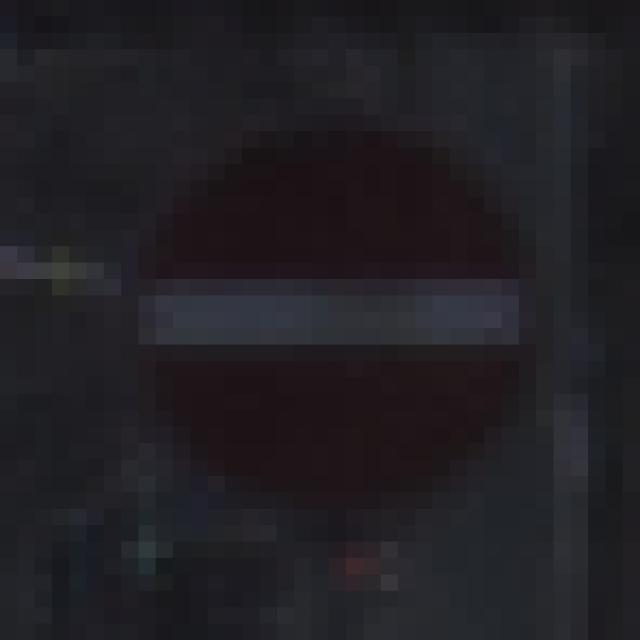No Entry: (105, 99, 554, 559)
